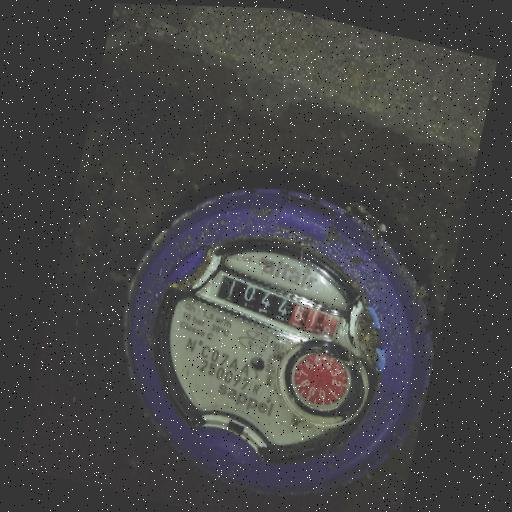0: (237, 280, 260, 311)
1: (220, 275, 242, 304), (303, 305, 324, 335)
4: (253, 287, 277, 318), (270, 295, 294, 325)
6: (287, 301, 310, 331)
8: (317, 313, 339, 342)
border_water_meter_number: (190, 264, 374, 362)
